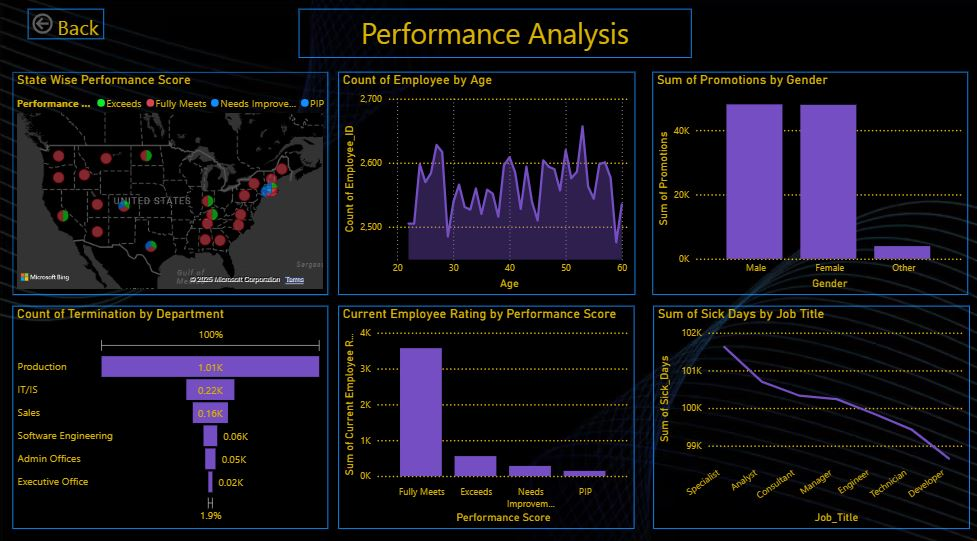

What the dashboard file says about the page in this screenshot:
{"tool":"powerbi","page":{"name":"Employee Performance","canvas":[1280,720],"ordinal":1},"visuals":[{"type":"map","title":"State Wise Performance Score","fields":{"Category":["employee_data.State"],"Series":["employee_data.Performance Score"]},"box":[19.3,97.7,413.8,292],"z":0},{"type":"areaChart","title":"Count of Employee by Age","fields":{"Category":["Extended_Employee_Performance_and_Productivity_Data.Age"],"Y":["CountNonNull(Extended_Employee_Performance_and_Productivity_Data.Employee_ID)"]},"box":[445.2,97.7,388.5,292],"z":1000},{"type":"columnChart","fields":{"Category":["Extended_Employee_Performance_and_Productivity_Data.Gender"],"Y":["Sum(Extended_Employee_Performance_and_Productivity_Data.Promotions)"]},"box":[856.6,97.7,413.8,292],"z":2000},{"type":"funnel","title":"Count of Termination by Department","fields":{"Category":["employee_data.DepartmentType"],"Y":["CountNonNull(employee_data.TerminationDescription)"]},"box":[19.3,404.2,413.8,292],"z":3000},{"type":"textbox","box":[393.3,15.7,513.9,63.9],"z":4000},{"type":"columnChart","title":" Current Employee Rating by Performance Score","fields":{"Category":["employee_data.Performance Score"],"Y":["Sum(employee_data.Current Employee Rating)"]},"box":[445,404,388,292],"z":5000},{"type":"lineChart","title":"Sum of Sick Days by Job Title","fields":{"Y":["Sum(Extended_Employee_Performance_and_Productivity_Data.Sick_Days)"],"Category":["Extended_Employee_Performance_and_Productivity_Data.Job_Title"]},"box":[857,404,414,292],"z":6000},{"type":"actionButton","box":[38.6,15.7,100.1,39.8],"z":7000}]}

Visuals, with their boxes in screenshot pixels (x1, y1, x2, y2), scaled from the page's 1280x720 canvas onto the 977x541 screenshot:
"State Wise Performance Score" map: left=15, top=73, right=331, bottom=293
"Count of Employee by Age" areaChart: left=340, top=73, right=636, bottom=293
columnChart - Extended_Employee_Performance_and_Productivity_Data.Gender x Sum(Extended_Employee_Performance_and_Productivity_Data.Promotions): left=654, top=73, right=970, bottom=293
"Count of Termination by Department" funnel: left=15, top=304, right=331, bottom=523
textbox: left=300, top=12, right=692, bottom=60
" Current Employee Rating by Performance Score" columnChart: left=340, top=304, right=636, bottom=523
"Sum of Sick Days by Job Title" lineChart: left=654, top=304, right=970, bottom=523
actionButton: left=29, top=12, right=106, bottom=42
